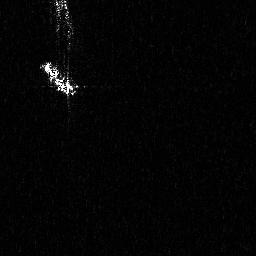ship: (34, 55, 94, 118)
